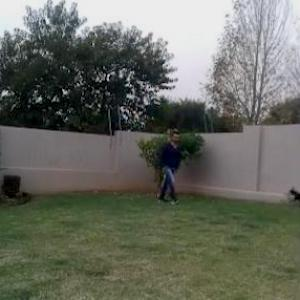follow: (160, 126, 182, 207)
